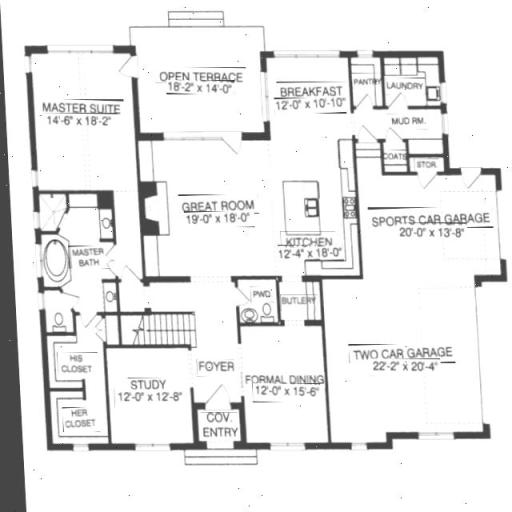Room: (27, 51, 136, 193), (266, 59, 354, 139), (112, 352, 192, 436), (244, 336, 315, 428), (379, 59, 449, 120)
bathroom: (41, 206, 122, 333)
garage: (326, 281, 476, 438), (357, 171, 497, 279)
hall: (148, 146, 284, 276)
kitchen: (285, 178, 354, 280)
